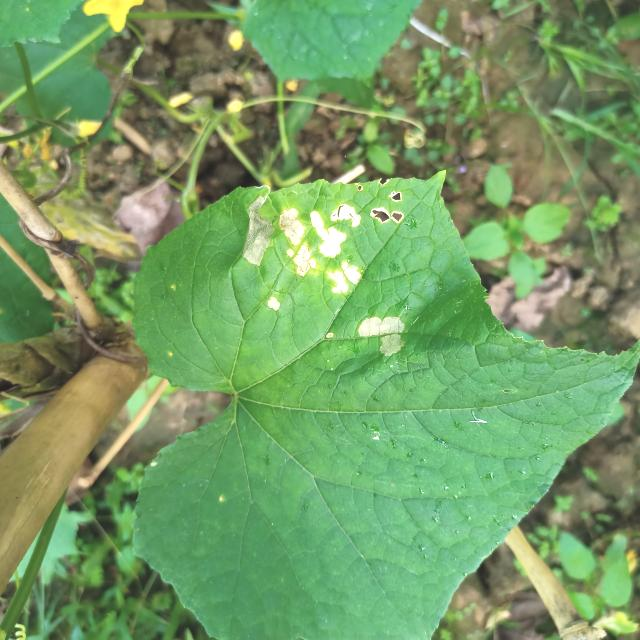disease_cucumber: (239, 189, 407, 297), (353, 310, 407, 357)
